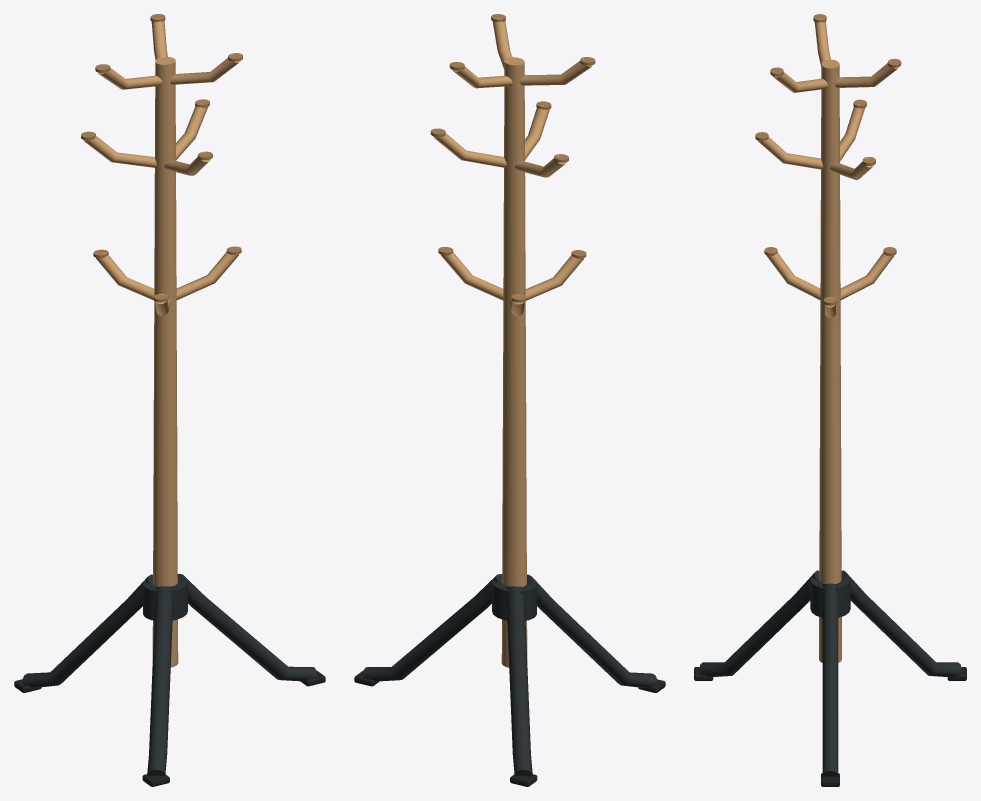
Rendered from coat-stand.glb.
3 views of the same model, side by side, from view 1: azimuth 30°, elevation 25°; view 2: azimuth 150°, elevation 25°; view 3: azimuth 270°, elevation 25° (orthographic).
Visible parts, largest first — view 1: catalog_surface_RealismUV, catalog_surface_UVMap; view 2: catalog_surface_RealismUV, catalog_surface_UVMap; view 3: catalog_surface_RealismUV, catalog_surface_UVMap.
Part boxes in pixels (x1,y1,x2,y2): catalog_surface_RealismUV: (14, 14, 325, 786); catalog_surface_UVMap: (22, 573, 316, 775); catalog_surface_RealismUV: (354, 14, 665, 786); catalog_surface_UVMap: (363, 574, 657, 775); catalog_surface_RealismUV: (694, 14, 966, 786); catalog_surface_UVMap: (699, 570, 961, 776).
Size of the model in its own units: 0.63 by 1.69 by 0.63.
